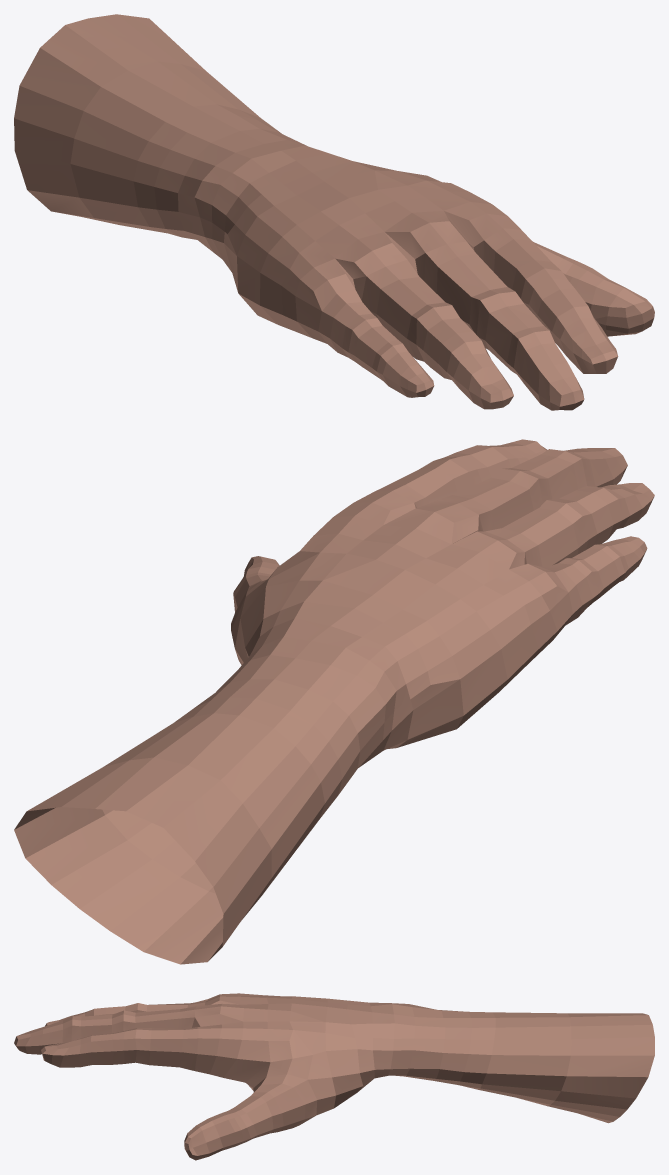
File: 1_5_HandPolygonalRightBack.glb
3 views of the same model, one above another, from view 1: azimuth 30°, elevation 25°; view 2: azimuth 150°, elevation 25°; view 3: azimuth 270°, elevation 25° (orthographic). The views are drawn at different scales.
Parts seen in each view (by area): view 1: hand_femme_polySurface1.007; view 2: hand_femme_polySurface1.007; view 3: hand_femme_polySurface1.007.
Part boxes in pixels (bbox=[...]): hand_femme_polySurface1.007: bbox=[14, 14, 654, 410]; hand_femme_polySurface1.007: bbox=[14, 439, 654, 964]; hand_femme_polySurface1.007: bbox=[14, 993, 654, 1160].
Size of the model in its own units: 0.0733 by 0.042 by 0.1908.
